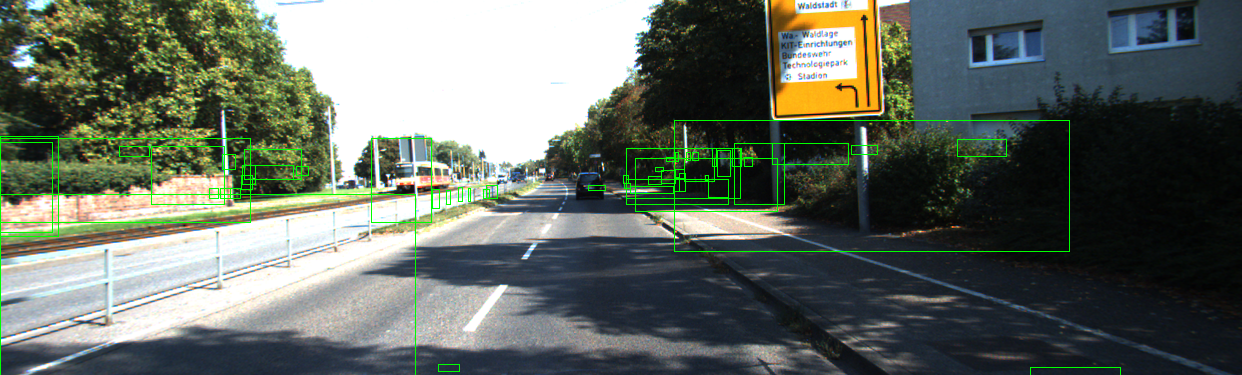car: (577, 172, 605, 201)
